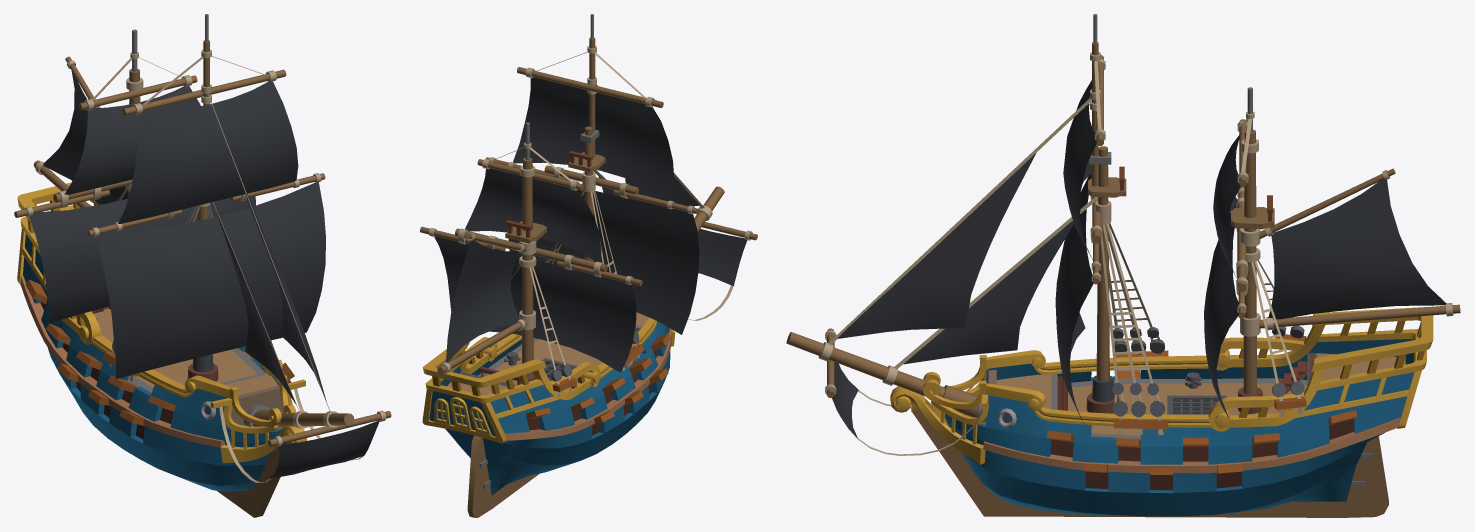
The model's file is Frigate.fbx.
3 views of the same model, side by side, from view 1: azimuth 30°, elevation 25°; view 2: azimuth 150°, elevation 25°; view 3: azimuth 270°, elevation 25° (orthographic). The views are drawn at different scales.
Parts seen in each view (by area): view 1: Sails_Black, Frigate, Upgrade_02, Upgrade_01; view 2: Sails_Black, Frigate, Rudder, Upgrade_02, Upgrade_01; view 3: Frigate, Sails_Black, Upgrade_02, Rudder, Upgrade_01.
Part boxes in pixels (bbox=[...]): Sails_Black: bbox=[29, 71, 379, 478]; Frigate: bbox=[14, 14, 391, 517]; Upgrade_02: bbox=[20, 275, 224, 447]; Upgrade_01: bbox=[22, 244, 296, 426]; Sails_Black: bbox=[434, 77, 747, 372]; Frigate: bbox=[420, 14, 757, 507]; Rudder: bbox=[467, 435, 493, 517]; Upgrade_02: bbox=[505, 328, 672, 440]; Upgrade_01: bbox=[496, 389, 559, 418]; Frigate: bbox=[786, 14, 1460, 517]; Sails_Black: bbox=[832, 80, 1446, 439]; Upgrade_02: bbox=[983, 417, 1400, 473]; Rudder: bbox=[1342, 436, 1388, 517]; Upgrade_01: bbox=[923, 355, 1408, 418].
Size of the model in its own units: 888 by 1611 by 1964.
